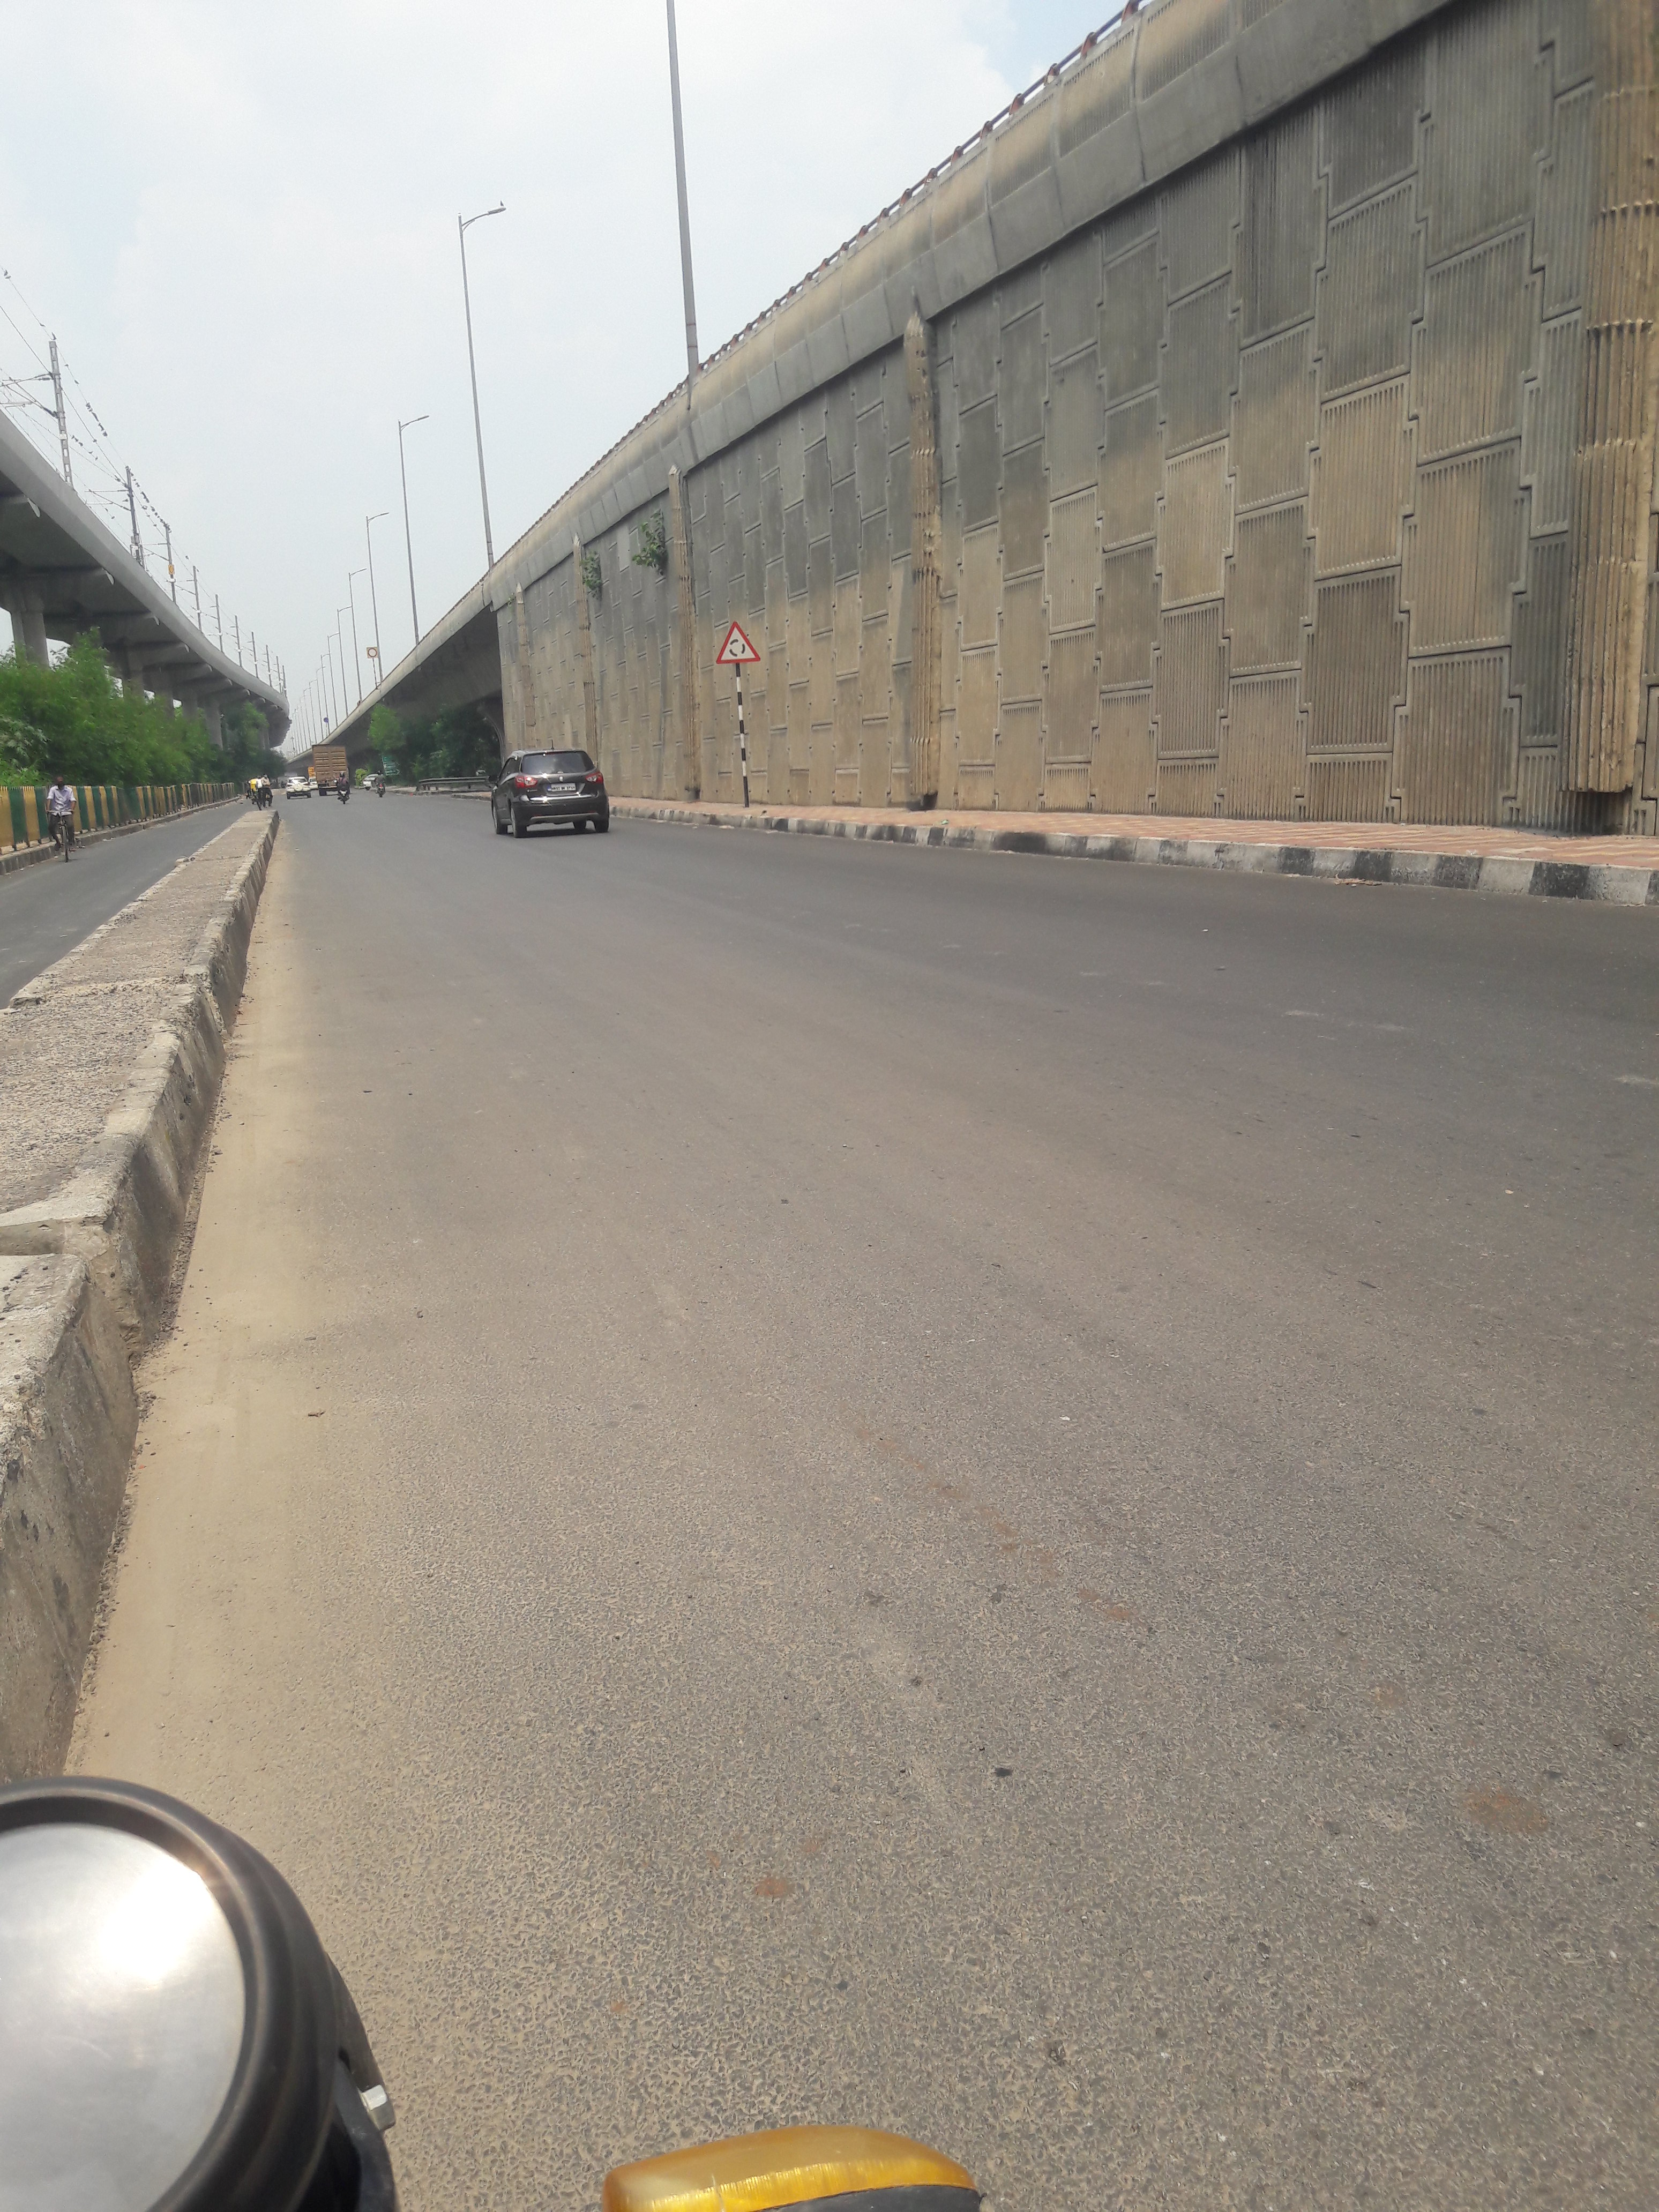traffic_sign: (716, 622, 760, 665)
